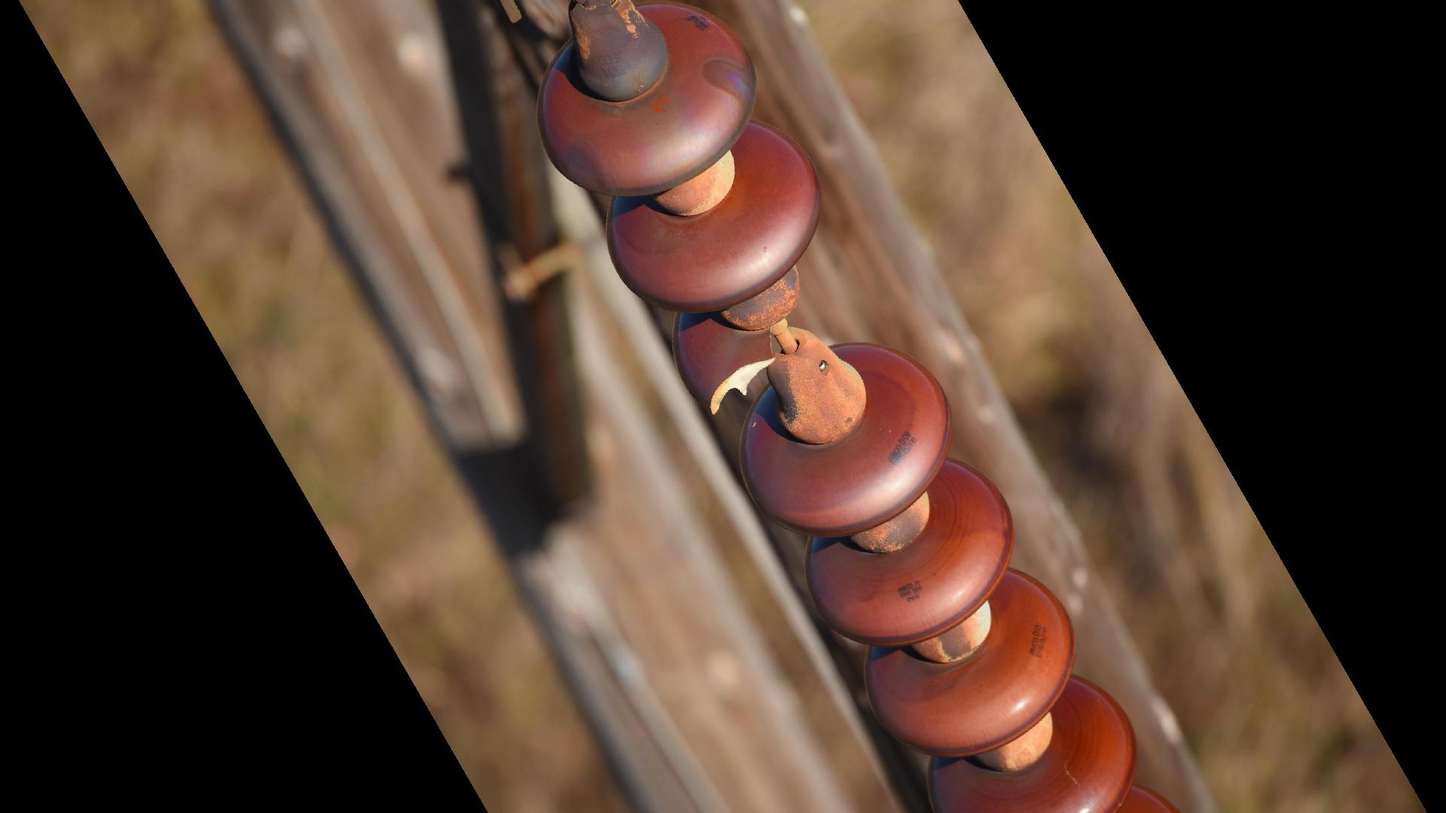insulator: (530, 1, 1178, 813)
insulator_breakage: (697, 325, 787, 422)
